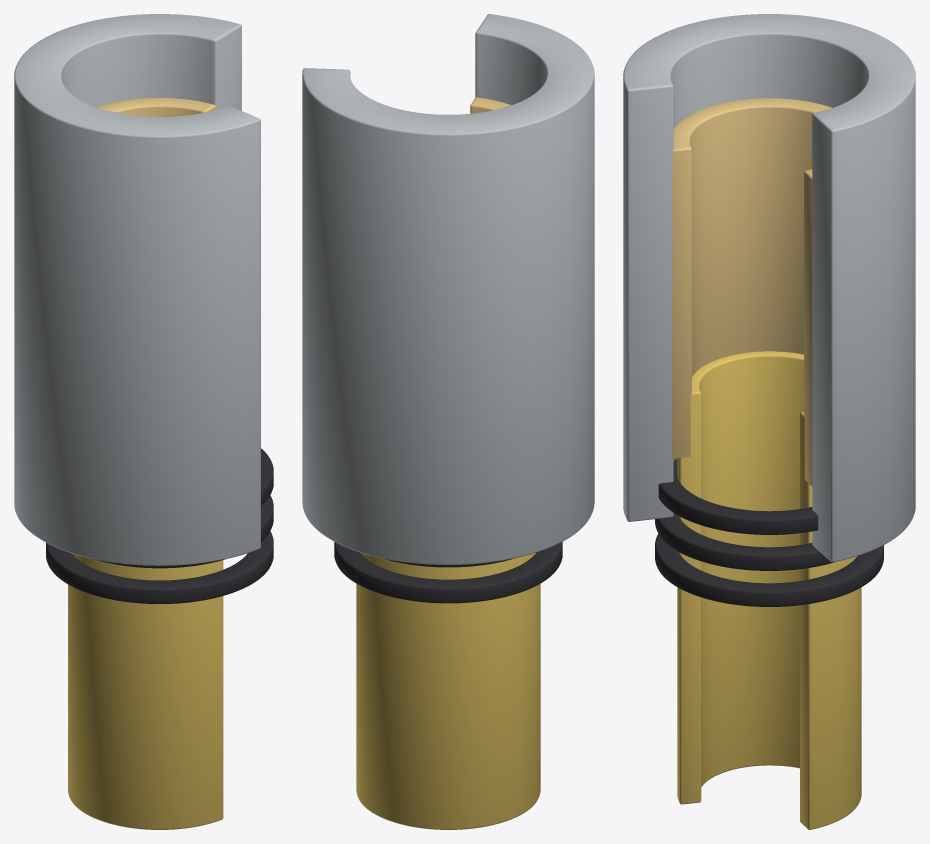
Rendered from expansion-joint.glb.
3 views of the same model, side by side, from view 1: azimuth 30°, elevation 25°; view 2: azimuth 150°, elevation 25°; view 3: azimuth 270°, elevation 25° (orthographic).
Visible parts, largest first — view 1: Outer barrel, Inner mandrel, Travel seal.002, Travel polished bore, Travel seal.001, Travel seal; view 2: Outer barrel, Inner mandrel, Travel seal.002; view 3: Outer barrel, Inner mandrel, Travel polished bore, Travel seal.002, Travel seal.001, Travel seal.
Part boxes in pixels (x1,y1,x2,y2): Outer barrel: (14,14,260,565); Inner mandrel: (68,553,223,829); Travel seal.002: (46,531,273,603); Travel polished bore: (97,98,216,116); Travel seal.001: (93,495,273,568); Travel seal: (261,448,273,505); Outer barrel: (302,14,594,564); Inner mandrel: (356,553,540,829); Travel seal.002: (334,542,562,603); Outer barrel: (623,14,915,562); Inner mandrel: (677,351,861,829); Travel polished bore: (672,98,831,486); Travel seal.002: (655,534,883,606); Travel seal.001: (655,513,834,570); Travel seal: (658,459,818,534).
Size of the model in its own units: 1.75 by 5 by 1.84.
